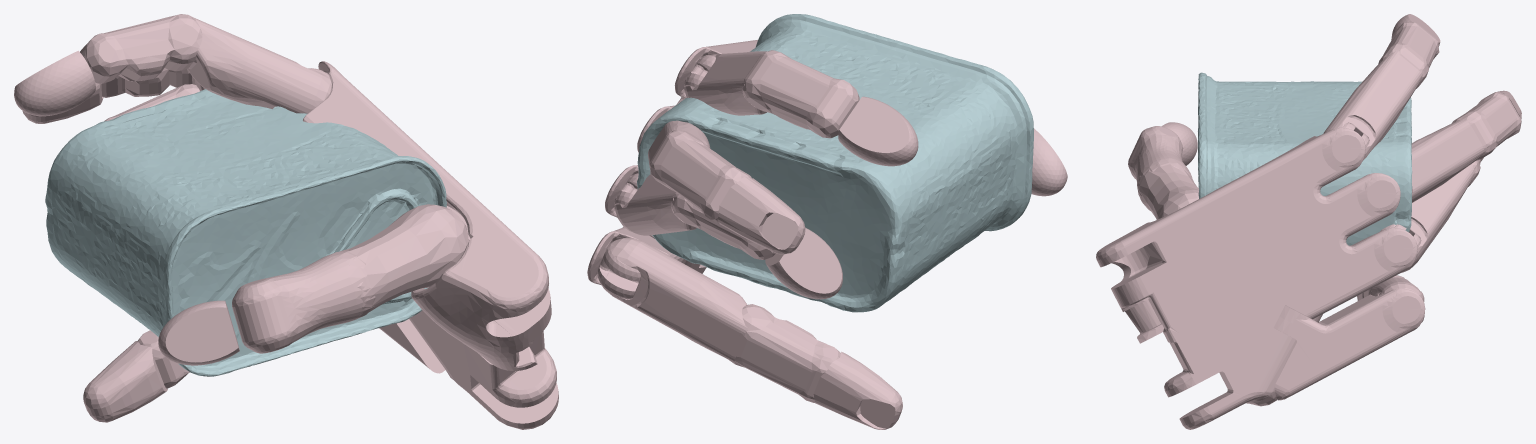
Rendered from grasp_8.glb.
3 views of the same model, side by side, from view 1: azimuth 30°, elevation 25°; view 2: azimuth 150°, elevation 25°; view 3: azimuth 270°, elevation 25° (orthographic). The views are drawn at different scales.
Visible parts, largest first — view 1: world; view 2: world; view 3: world.
Boxes of the visible parts, x1,y1,x2,y2 form: world: [14, 14, 558, 429]; world: [587, 14, 1067, 429]; world: [1096, 14, 1521, 429].
Bounding box in the file's own units: 0.1475 × 0.1279 × 0.1659.
